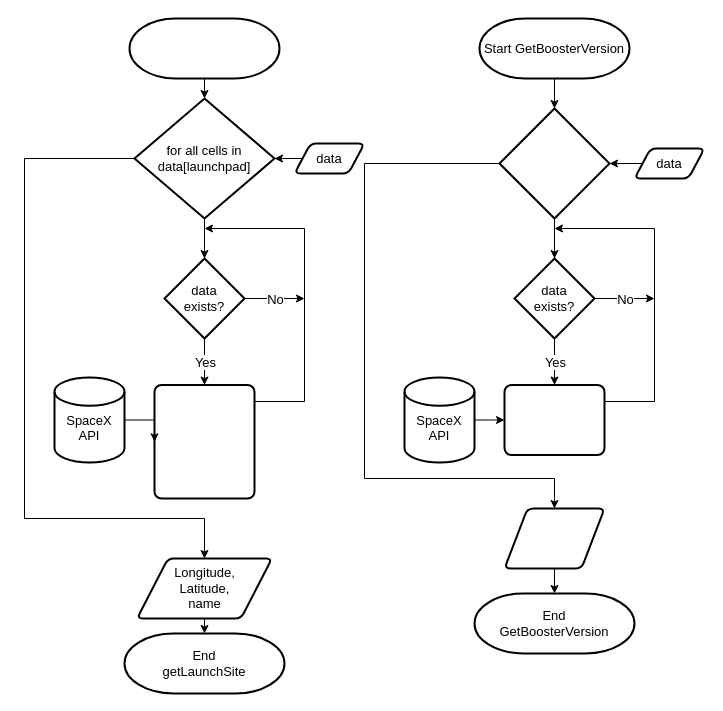
This 723x711 diagram has some shape labels left out. Each missing label, with the centre of its shape:
for all cells in data[rocket]: (x=554, y=163)
get launchpad data (json): (x=204, y=441)
get rocket data (json): (x=554, y=420)
Name: (x=554, y=538)
Start getLaunchSite: (x=204, y=48)
